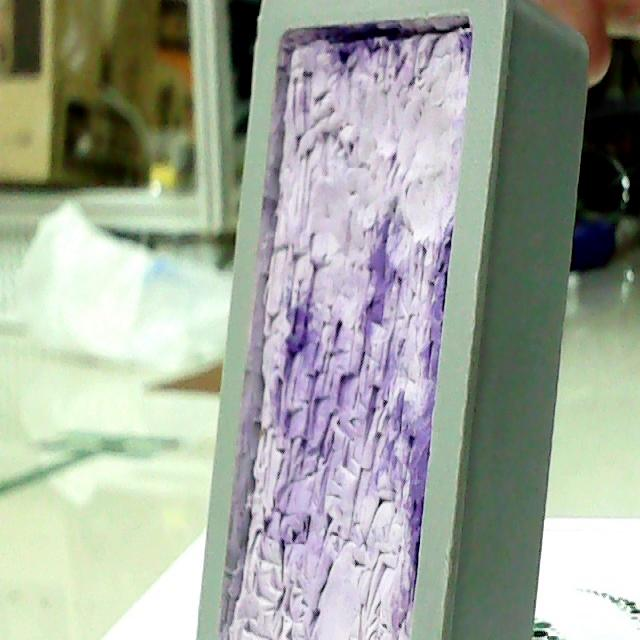block: (196, 0, 592, 640)
